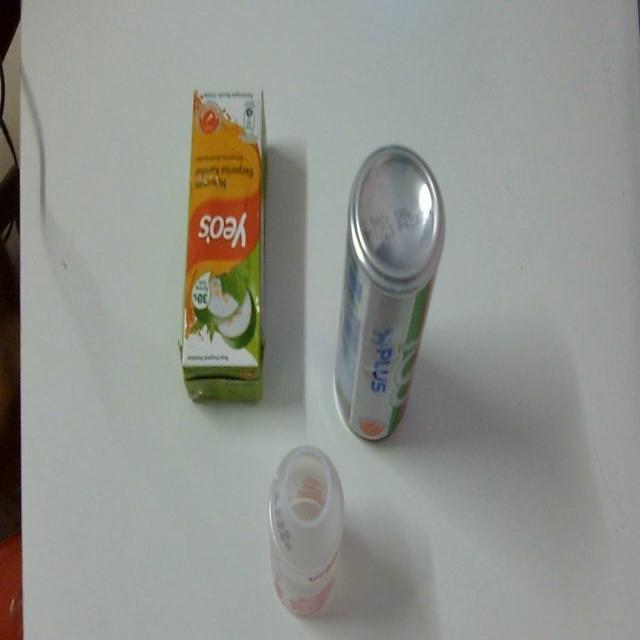metal_standrotation: (334, 136, 449, 448)
plastic_laydown_90rotation: (174, 76, 274, 409)
plastic_standrotation: (263, 436, 349, 621)
